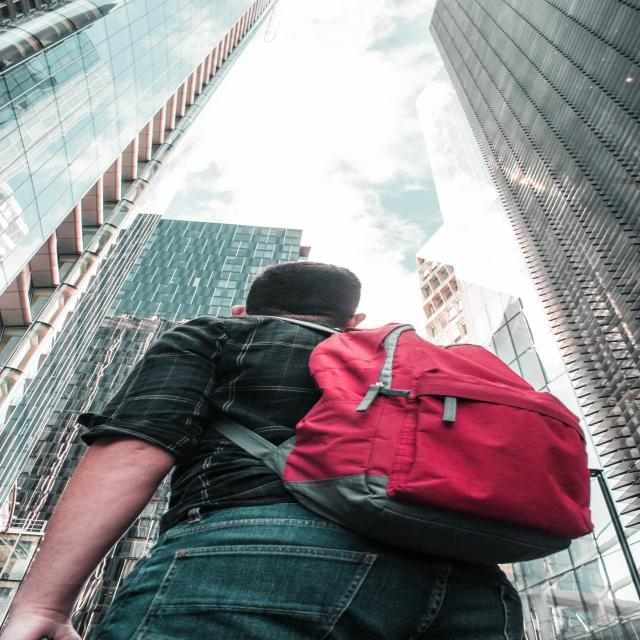backpack: (172, 311, 597, 564)
